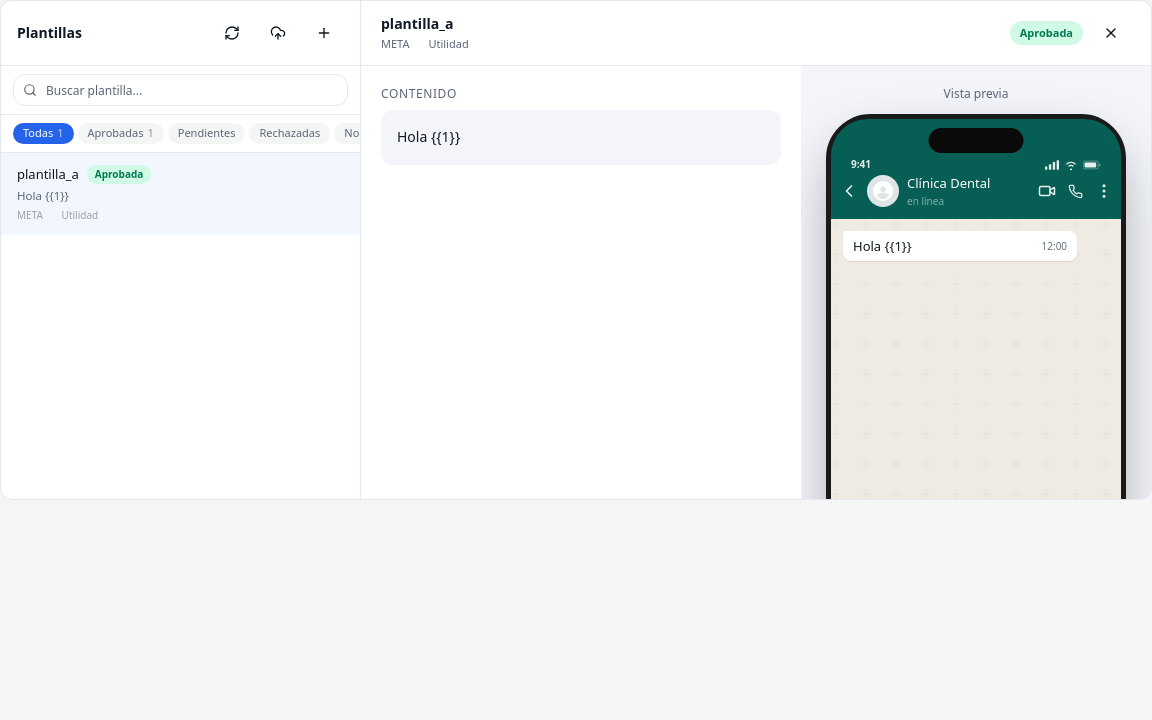
Test: Plantillas: republicar en la cuenta actual › pide confirmación explicando qué pasa, y solo entonces republica
Later steps or results of the test are not shown.
Click the button named "Republicar en la cuenta actual" at (278,33), box x1=258 y1=13 x2=298 y2=53
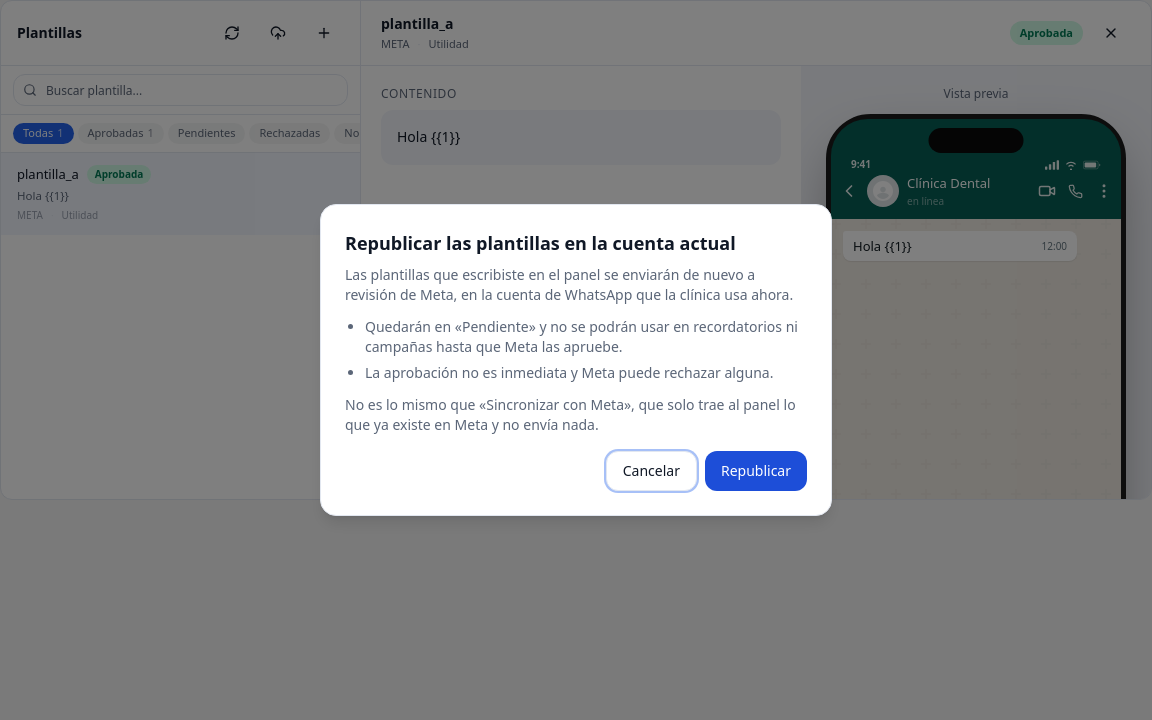
Now the dialog shows "se enviarán de nuevo a revisión de Meta", box x1=345 y1=265 x2=793 y2=304
Now the dialog shows "Quedarán en «Pendiente» y no se podrán usar en recordatorios ni campañas hasta que Meta las apruebe", box x1=365 y1=317 x2=798 y2=356
Now the dialog shows "La aprobación no es inmediata y Meta puede rechazar alguna", box x1=365 y1=363 x2=773 y2=382
